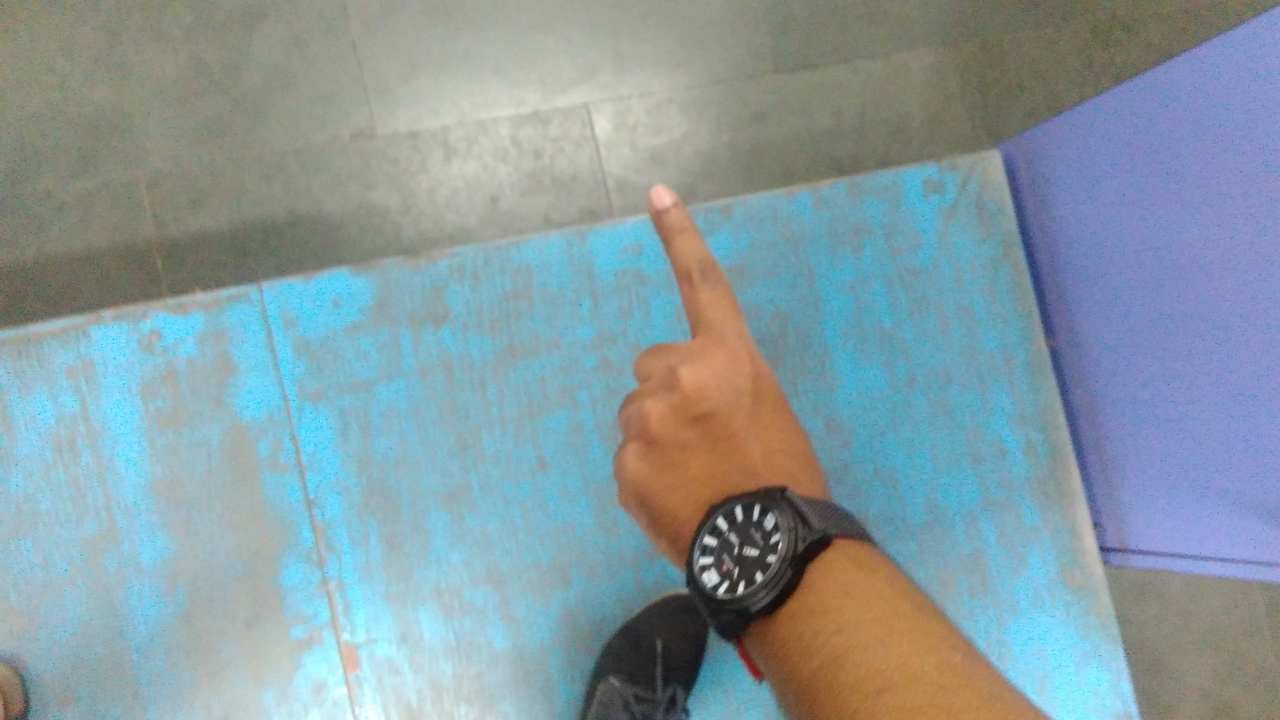fingertip: (636, 172, 702, 226)
